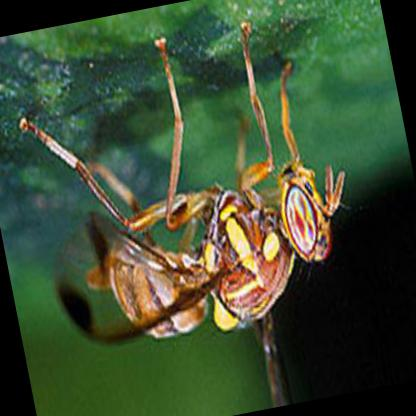fruit fly: (20, 26, 343, 340)
